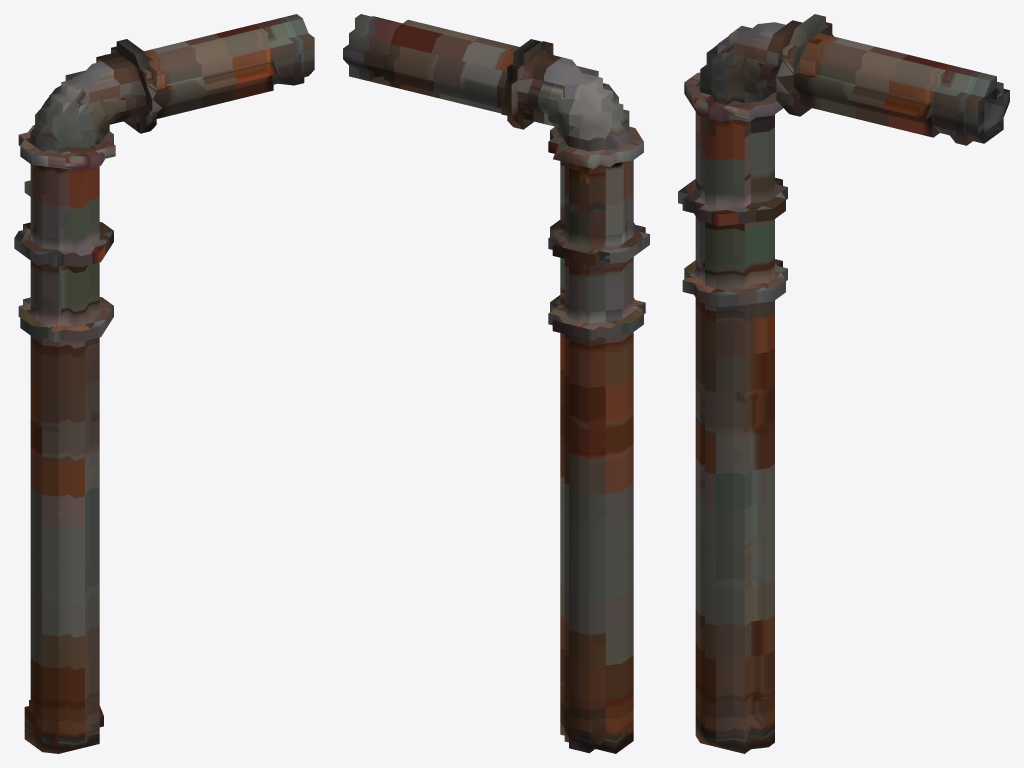
File: simplified_rusty_pipe.glb
3 renders of one model, left to right at view 1: azimuth 30°, elevation 25°; view 2: azimuth 150°, elevation 25°; view 3: azimuth 330°, elevation 25°, orthographic. The views are drawn at different scales.
Parts seen in each view (by area): view 1: Mesh_0; view 2: Mesh_0; view 3: Mesh_0.
Boxes of the visible parts, x1,y1,x2,y2 form: Mesh_0: (14, 14, 314, 753); Mesh_0: (343, 14, 649, 753); Mesh_0: (678, 14, 1009, 753).
Size of the model in its own units: 0.8577 by 2 by 0.2541.
Materials: 1 (1 with a texture image).
